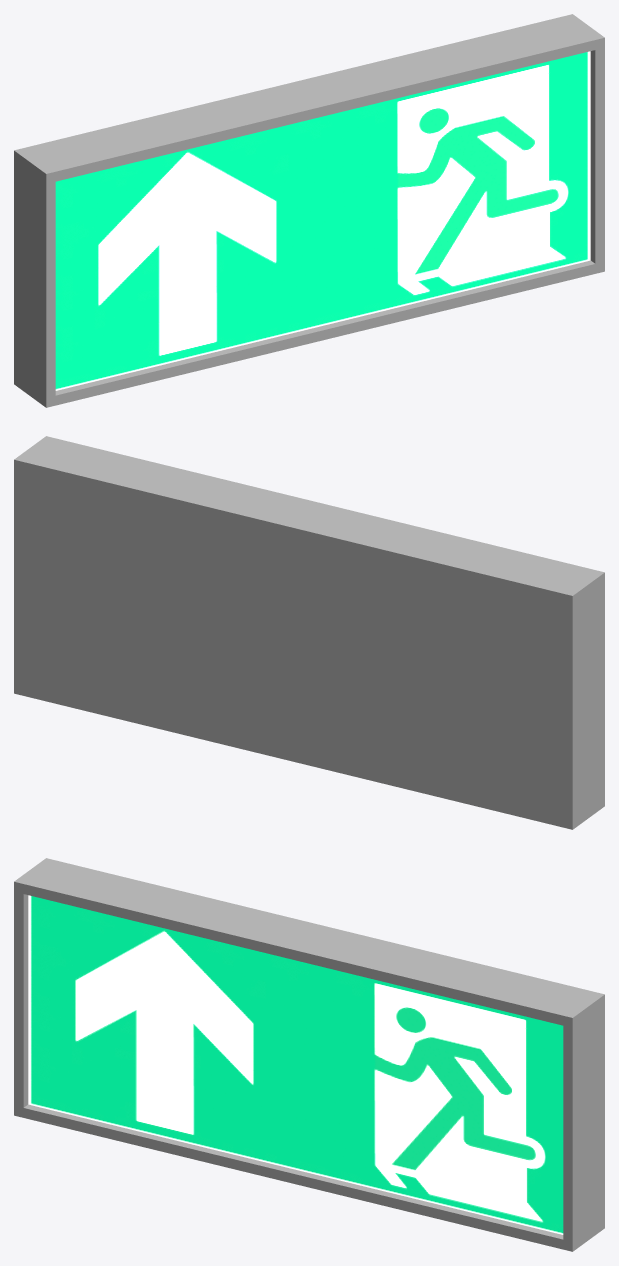
File: Exit.fbx
3 renders of one model, top to bottom at view 1: azimuth 30°, elevation 25°; view 2: azimuth 150°, elevation 25°; view 3: azimuth 330°, elevation 25°, orthographic.
Visible parts, largest first — view 1: Exit; view 2: Exit; view 3: Exit.
Boxes of the visible parts, x1,y1,x2,y2 form: Exit: (14,14,604,407); Exit: (14,436,604,829); Exit: (14,858,604,1251).
Size of the model in its own units: 0.25 by 0.1 by 0.025.
